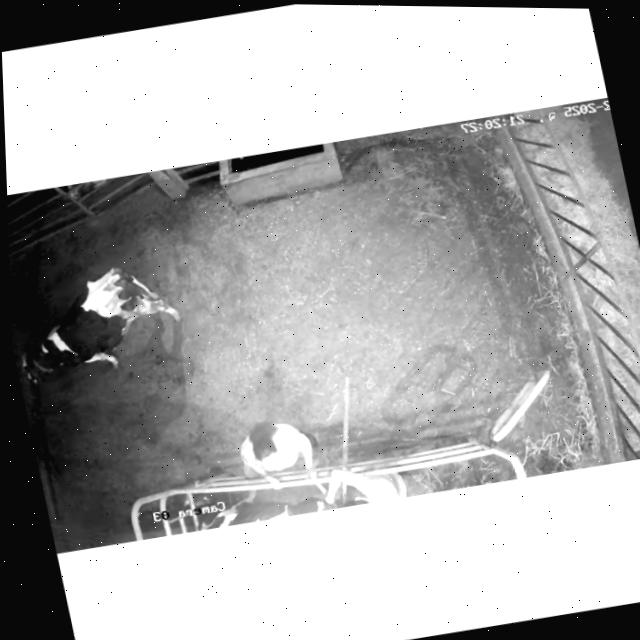stand: (9, 240, 213, 407)
